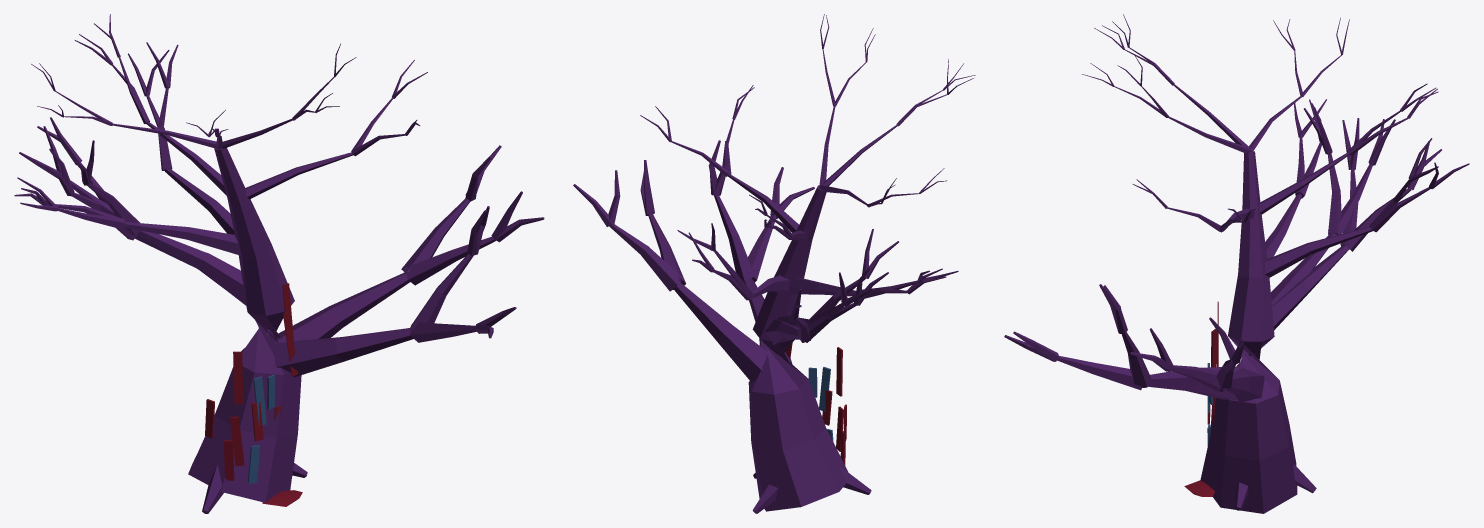
Rendered from gulthias_tree.glb.
3 renders of one model, left to right at view 1: azimuth 30°, elevation 25°; view 2: azimuth 150°, elevation 25°; view 3: azimuth 270°, elevation 25°, orthographic. The views are drawn at different scales.
Visible parts, largest first — view 1: gulthias_tree; view 2: gulthias_tree; view 3: gulthias_tree.
Part boxes in pixels (bbox=[...]): gulthias_tree: bbox=[14, 14, 544, 513]; gulthias_tree: bbox=[573, 14, 975, 513]; gulthias_tree: bbox=[1004, 14, 1469, 513].
Size of the model in its own units: 6.95 by 7.18 by 6.6.
